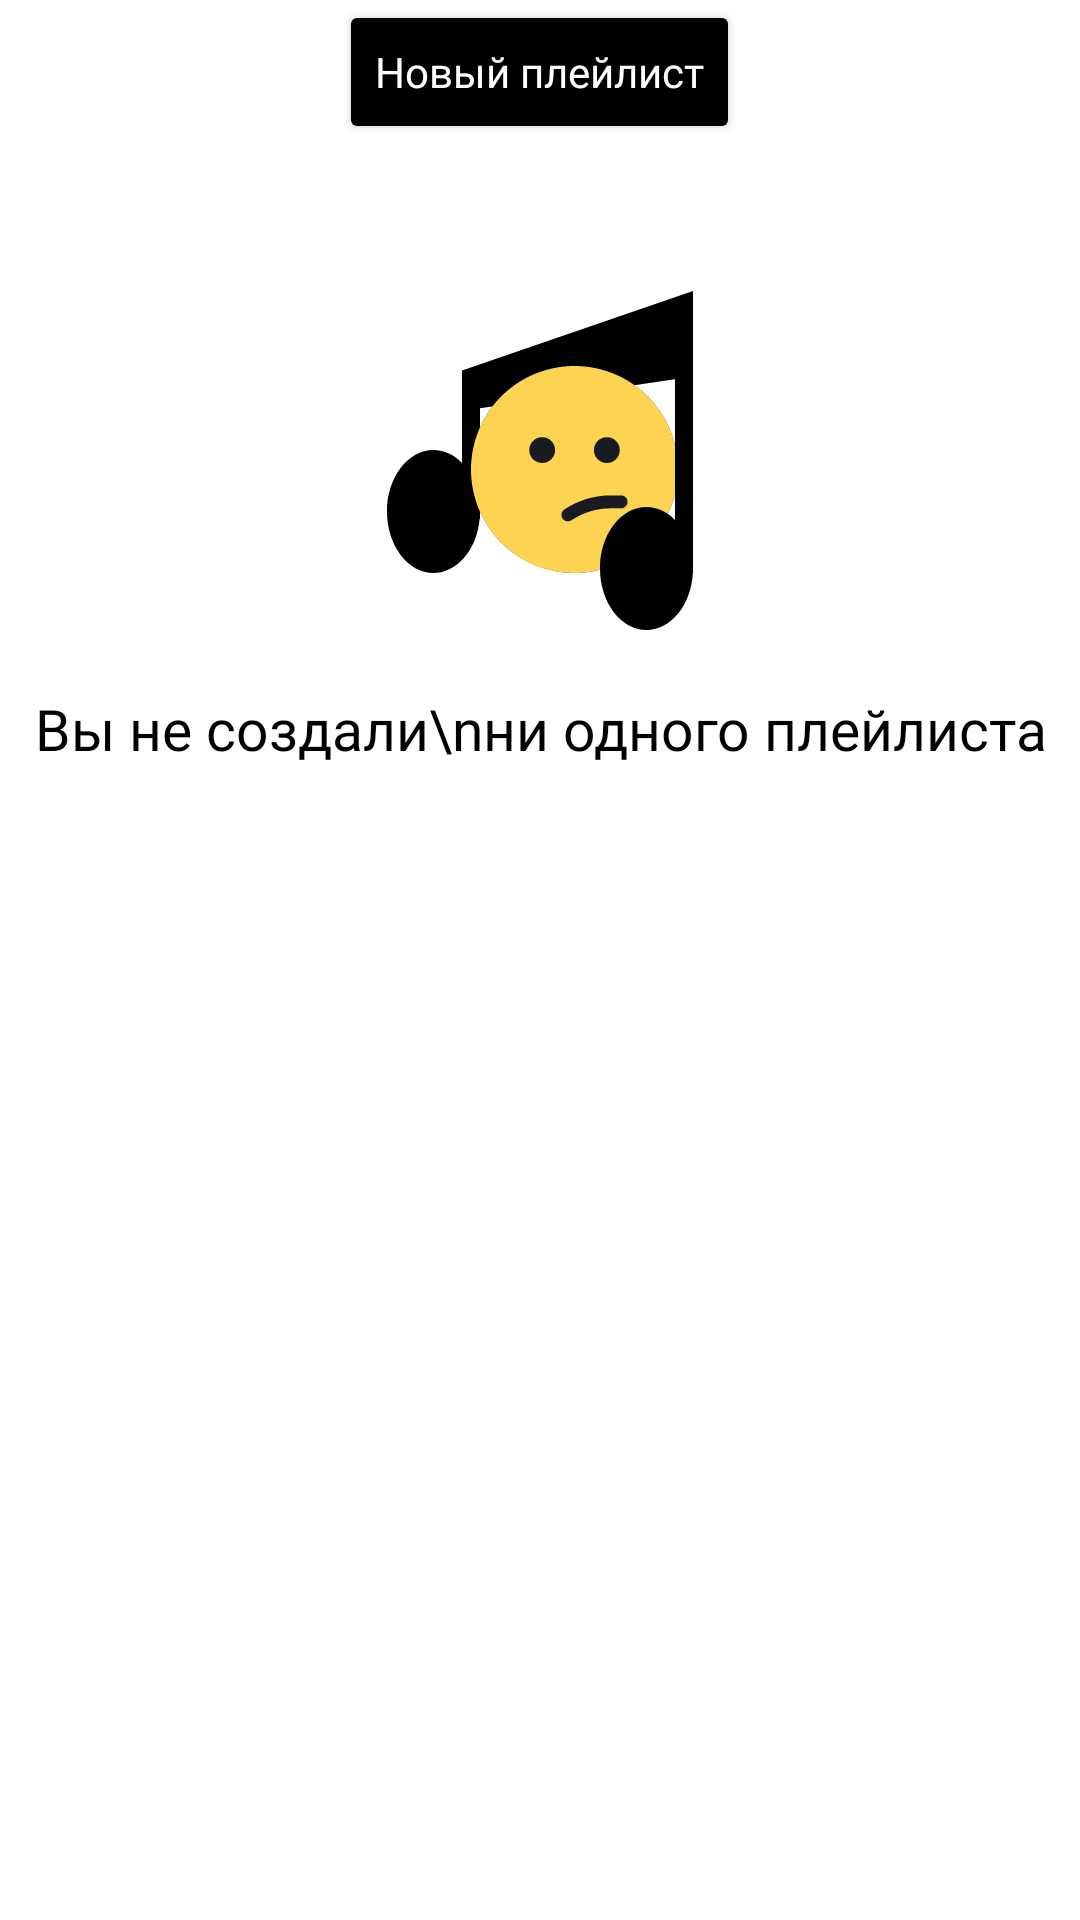

Icon click points for this 1080*1920 phone screenshot, format point (x, y):
no music: point (540, 460)
